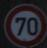Speed Limit -70-: (0, 0, 46, 47)
